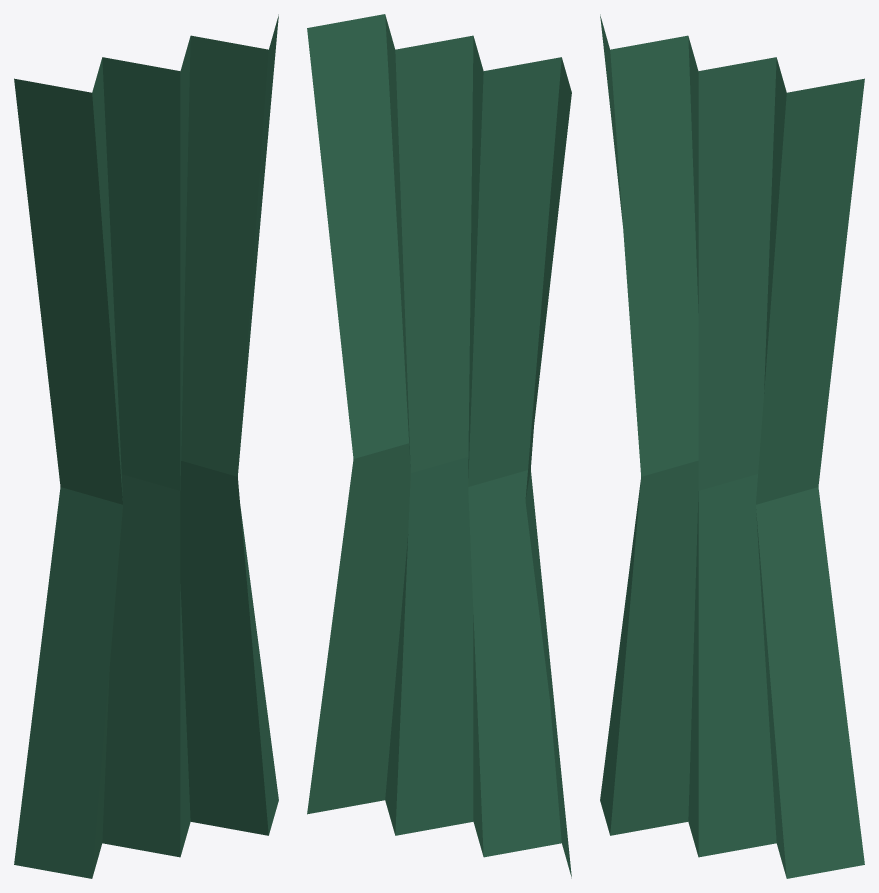
Rendered from Rideaau.fbx.
3 renders of one model, left to right at view 1: azimuth 30°, elevation 25°; view 2: azimuth 150°, elevation 25°; view 3: azimuth 330°, elevation 25°, orthographic.
Visible parts, largest first — view 1: Rideau; view 2: Rideau; view 3: Rideau.
Part boxes in pixels (x1,y1,x2,y2): Rideau: (14,14,278,878); Rideau: (307,14,571,878); Rideau: (600,14,864,878).
Size of the model in its own units: 83.33 by 236 by 18.52.
